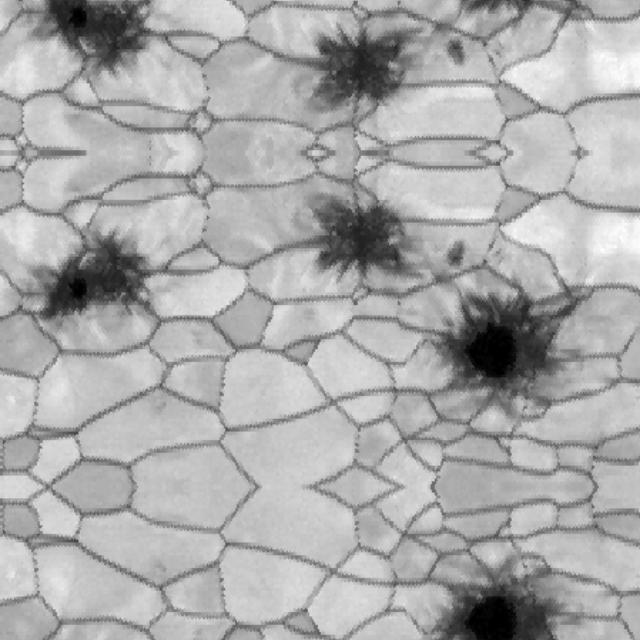good_void: (437, 281, 576, 394), (309, 185, 426, 303), (309, 1, 426, 119), (28, 228, 159, 324), (28, 0, 159, 76), (437, 580, 572, 640), (438, 240, 469, 270), (438, 34, 469, 64), (491, 245, 511, 266), (491, 38, 511, 59), (517, 401, 532, 415), (517, 559, 532, 573), (393, 298, 406, 308), (393, 0, 406, 6)
